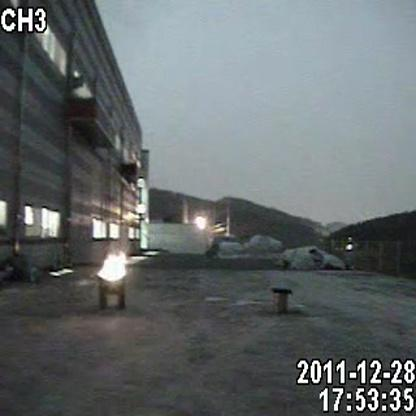Fire: (98, 252, 133, 280)
